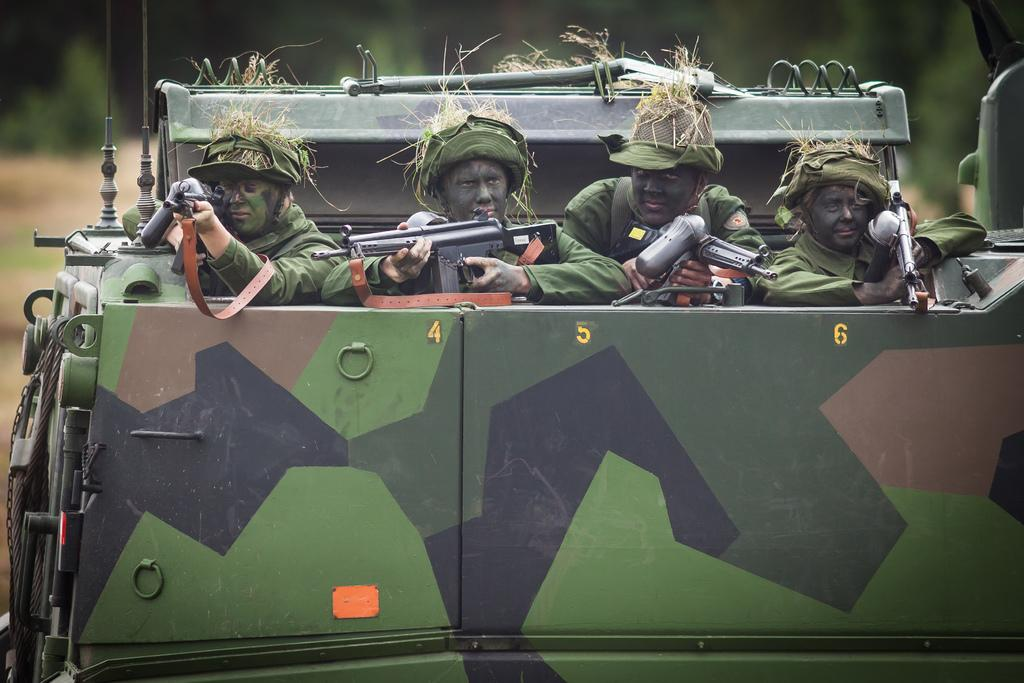Rifle: (324, 203, 580, 306), (598, 213, 780, 306), (164, 186, 278, 320), (865, 173, 938, 313)
